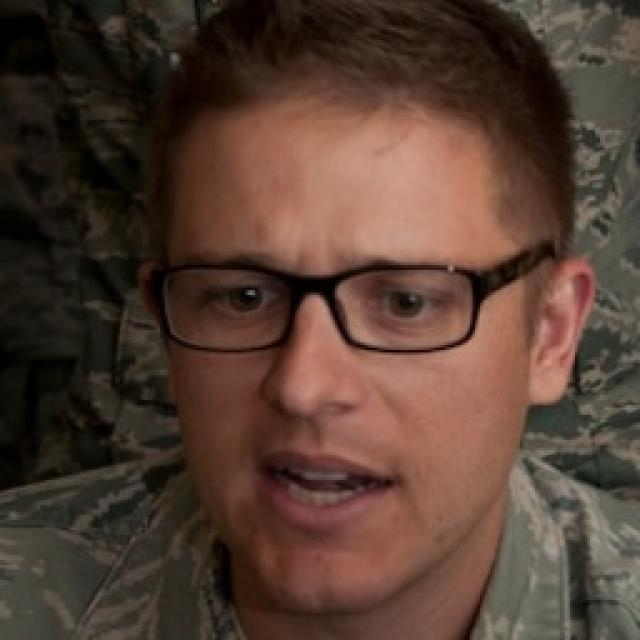glasses: (143, 240, 578, 358)
